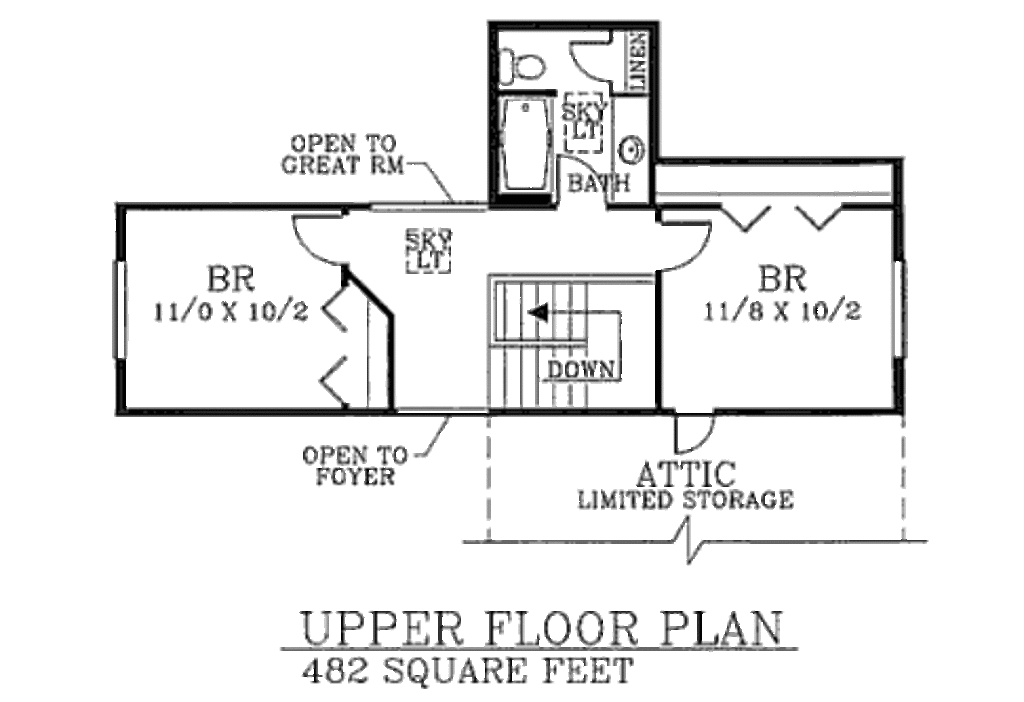door: (654, 215, 718, 272), (565, 23, 617, 86), (292, 209, 348, 265), (561, 150, 612, 210), (673, 405, 713, 458)
large_sink: (497, 41, 548, 89)
small_sink: (615, 96, 658, 205)
stairs: (477, 257, 666, 405)
tub: (496, 97, 555, 195)
window: (107, 254, 137, 362), (891, 257, 910, 362)
